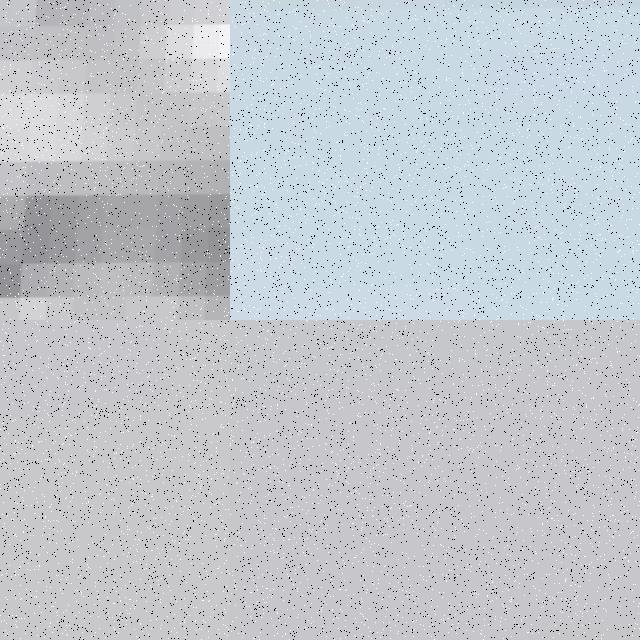0: (0, 0, 230, 320)
drone: (230, 0, 640, 320)
